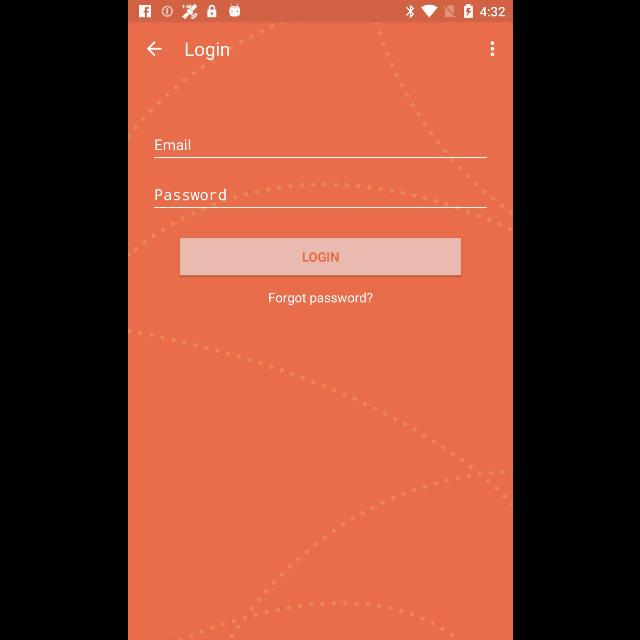icon: (146, 42, 162, 56), (488, 41, 494, 57)
input: (154, 139, 486, 159), (154, 189, 486, 209)
text: (268, 292, 372, 306), (155, 189, 225, 201), (185, 42, 229, 60), (154, 139, 190, 151)
textbutton: (180, 238, 460, 276)
uppertaskbar: (128, 1, 512, 23)
